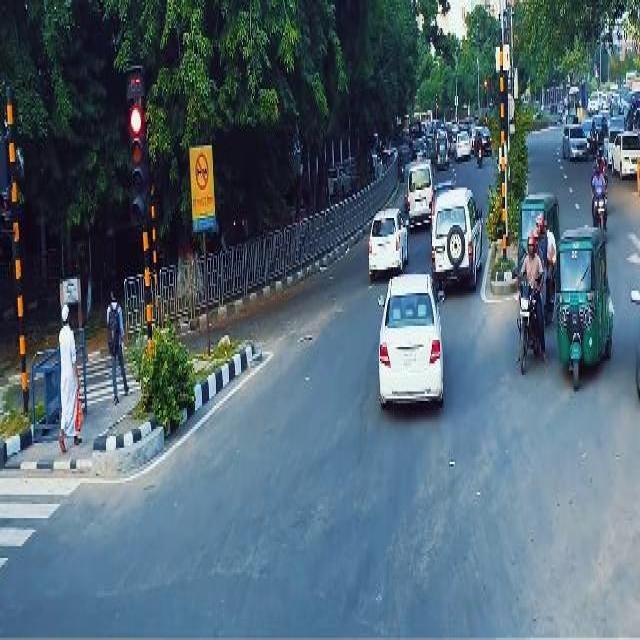bike: (510, 270, 542, 373), (588, 190, 611, 237)
vehicle: (374, 268, 448, 416), (555, 223, 613, 396), (431, 182, 485, 292), (367, 204, 412, 283), (406, 161, 437, 229), (561, 122, 590, 166), (436, 136, 450, 171)
